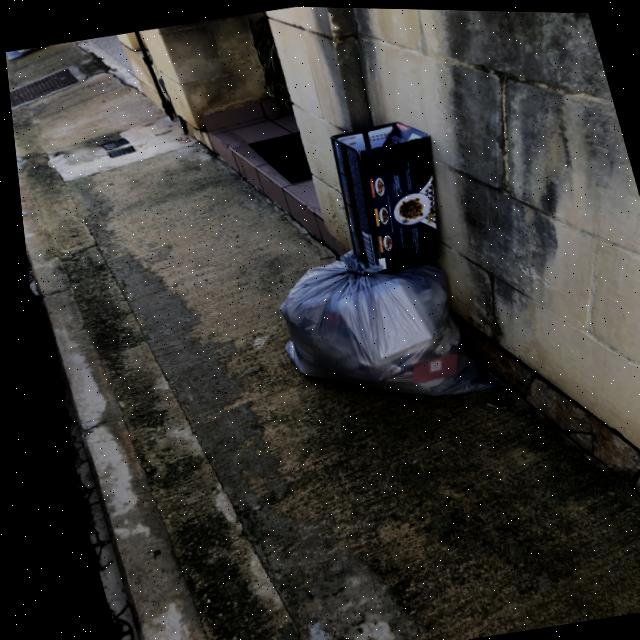Other: (312, 107, 469, 281)
Recycled Waste -Grey or Green Bag-: (240, 232, 506, 432)
